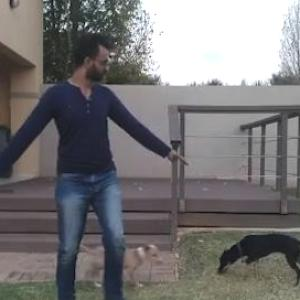land: (1, 5, 204, 299)
